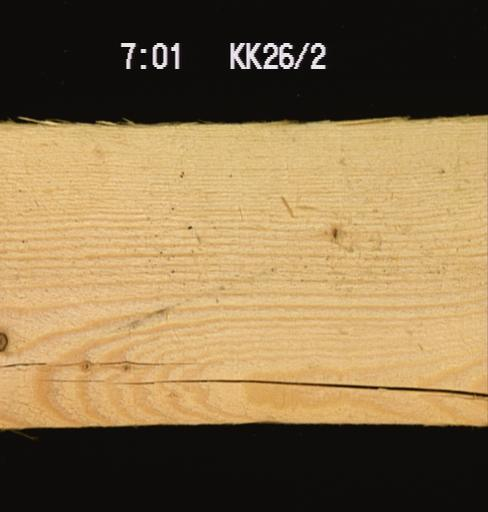dry_knot: (0, 329, 9, 353)
small_knot: (323, 221, 346, 243)
split: (34, 375, 487, 401), (1, 356, 199, 369)
